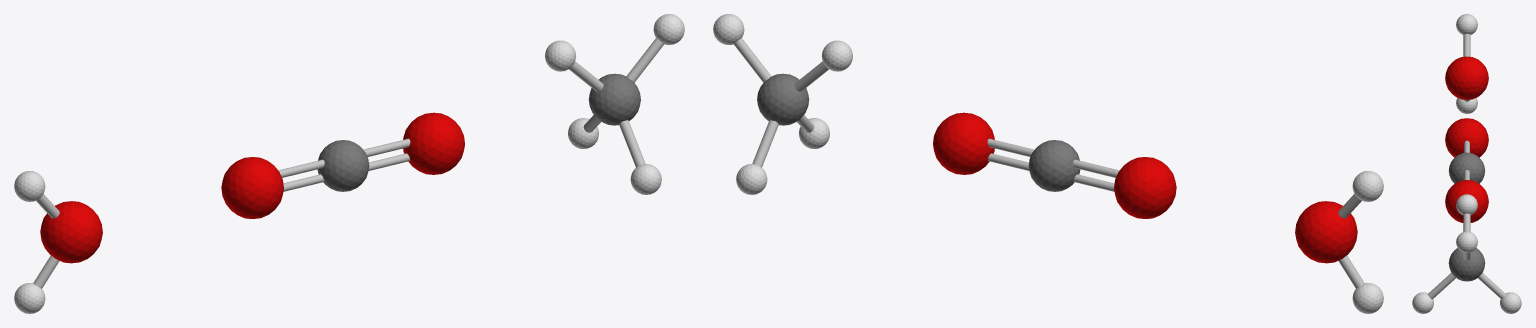
Rendered from covalent_bonding.glb.
3 views of the same model, side by side, from view 1: azimuth 30°, elevation 25°; view 2: azimuth 150°, elevation 25°; view 3: azimuth 270°, elevation 25° (orthographic). The views are drawn at different scales.
Visible parts, largest first — view 1: world; view 2: world; view 3: world.
Part boxes in pixels (<box>): world: <box>14,14,684,313</box>; world: <box>713,14,1383,313</box>; world: <box>1412,14,1521,313</box>.
Bounding box in the file's own units: 14.72 × 3 × 3.
